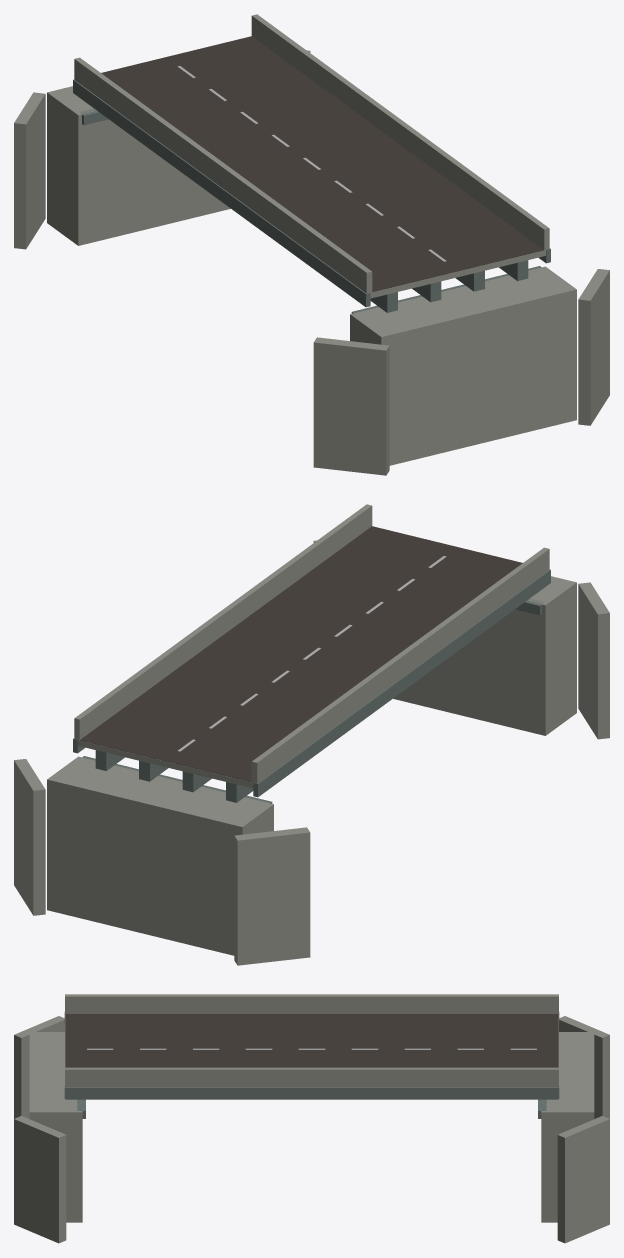
Rendered from SM_paso_superior_LOD0.fbx.
The picture shows the model from 3 angles, top to bottom: view 1: azimuth 30°, elevation 25°; view 2: azimuth 150°, elevation 25°; view 3: azimuth 270°, elevation 25°; orthographic projection. The views are drawn at different scales.
Visible parts, largest first — view 1: SM_bloques.paso_superior_LOD0; view 2: SM_bloques.paso_superior_LOD0; view 3: SM_bloques.paso_superior_LOD0.
Part boxes in pixels (x1,y1,x2,y2): SM_bloques.paso_superior_LOD0: [14, 14, 609, 475]; SM_bloques.paso_superior_LOD0: [14, 504, 609, 965]; SM_bloques.paso_superior_LOD0: [14, 994, 609, 1243].
Size of the model in its own units: 16.37 by 9.4 by 33.77.
